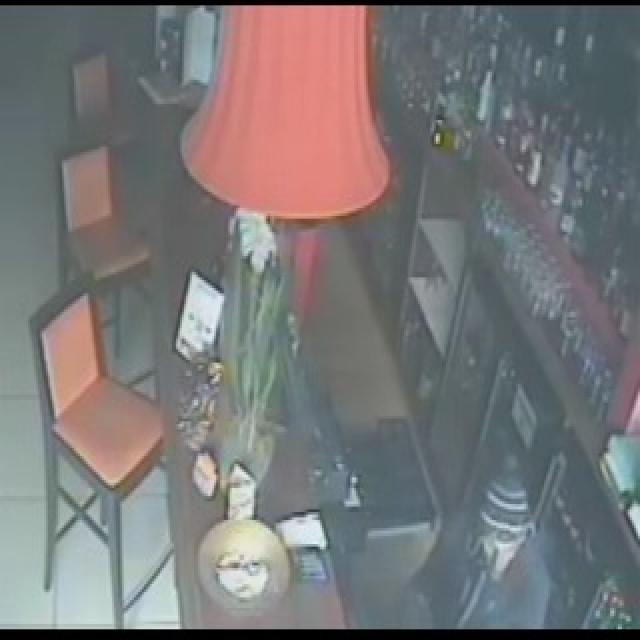thief: (466, 454, 567, 615)
